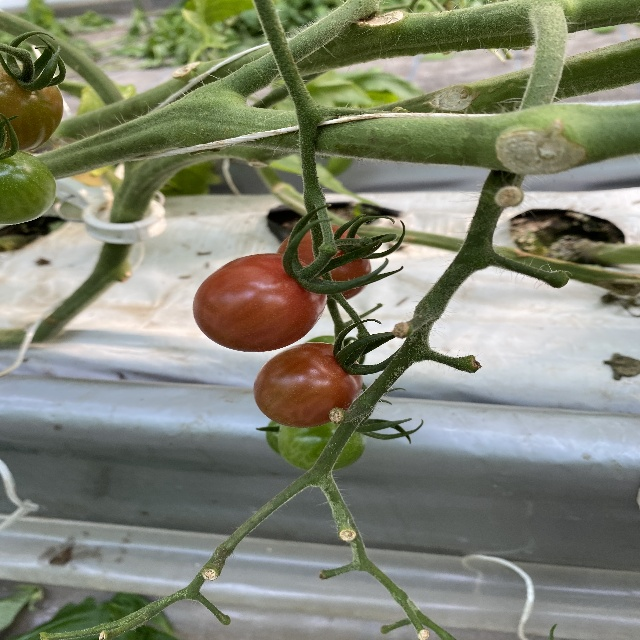l_fully_ripened: (192, 254, 329, 353), (275, 224, 373, 304)
l_green: (276, 411, 369, 472), (1, 149, 58, 225)
l_half_ripened: (253, 342, 363, 429), (0, 64, 63, 153)
